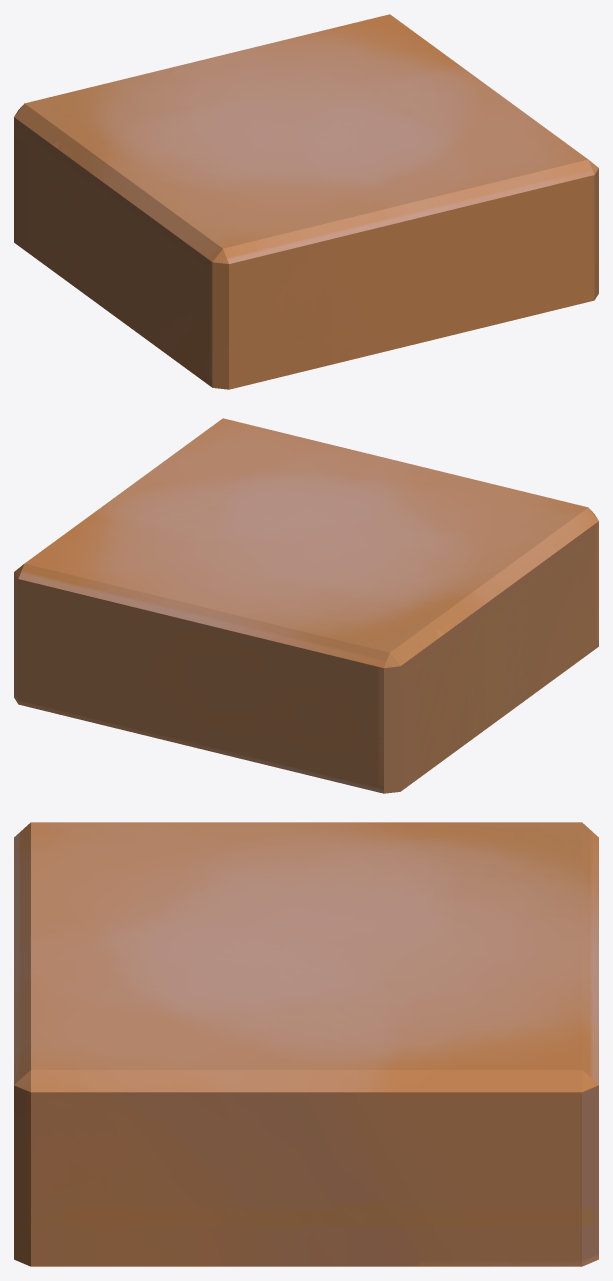
Rendered from button_square.glb.
3 views of the same model, one above another, from view 1: azimuth 30°, elevation 25°; view 2: azimuth 150°, elevation 25°; view 3: azimuth 270°, elevation 25° (orthographic). The views are drawn at different scales.
Parts seen in each view (by area): view 1: Button_Square; view 2: Button_Square; view 3: Button_Square.
Boxes of the visible parts, left/top/right/bottom form: Button_Square: left=14, top=14, right=598, bottom=389; Button_Square: left=14, top=418, right=598, bottom=793; Button_Square: left=14, top=822, right=598, bottom=1266.
Bounding box in the file's own units: 2.85 × 0.9611 × 2.69.
Materials: 1 (1 with a texture image).
